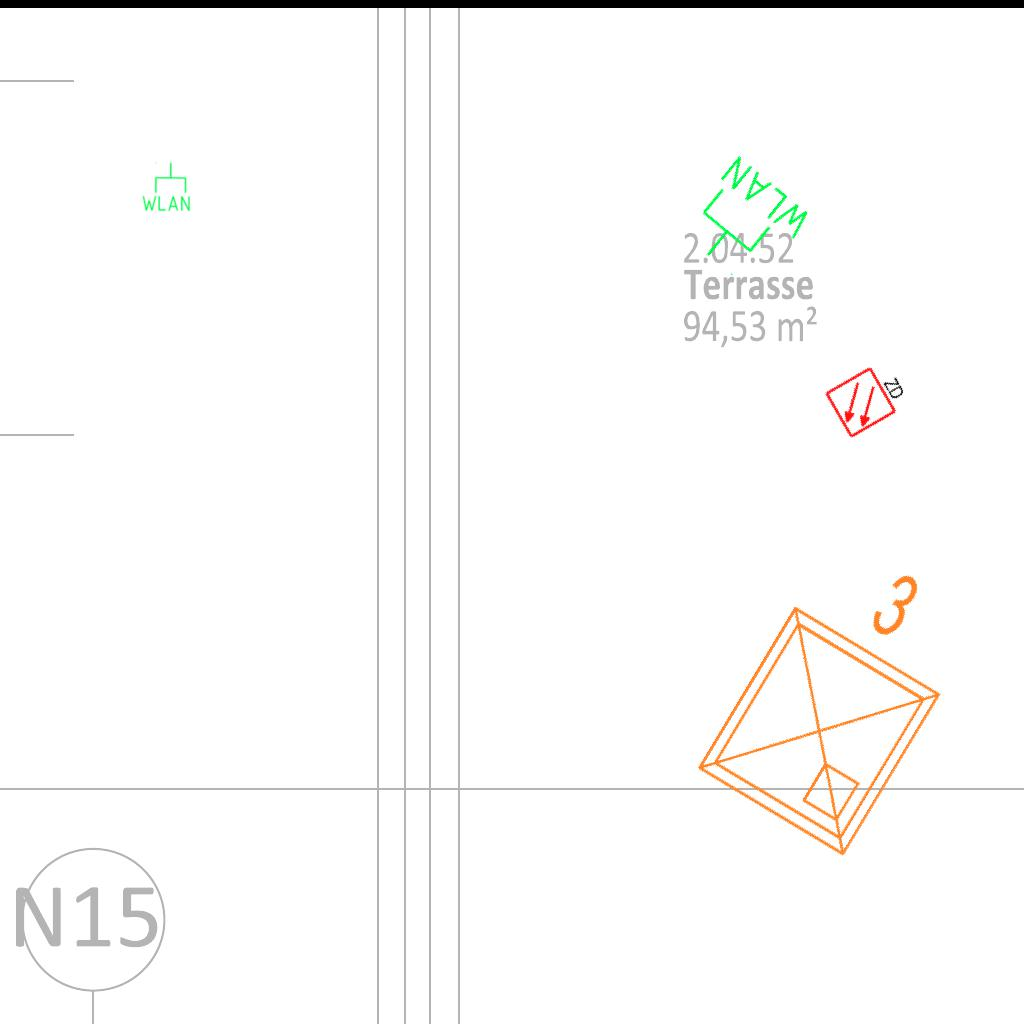Einbaudownlights_LED_Konferenzraeume: (670, 511, 1004, 877)
WLAN: (672, 150, 820, 297), (140, 161, 192, 213)
ZD_Melder_in_Zwischendecke_mit_Revisionsoeffnung_mind_40_x_40_cm: (822, 353, 915, 441)
